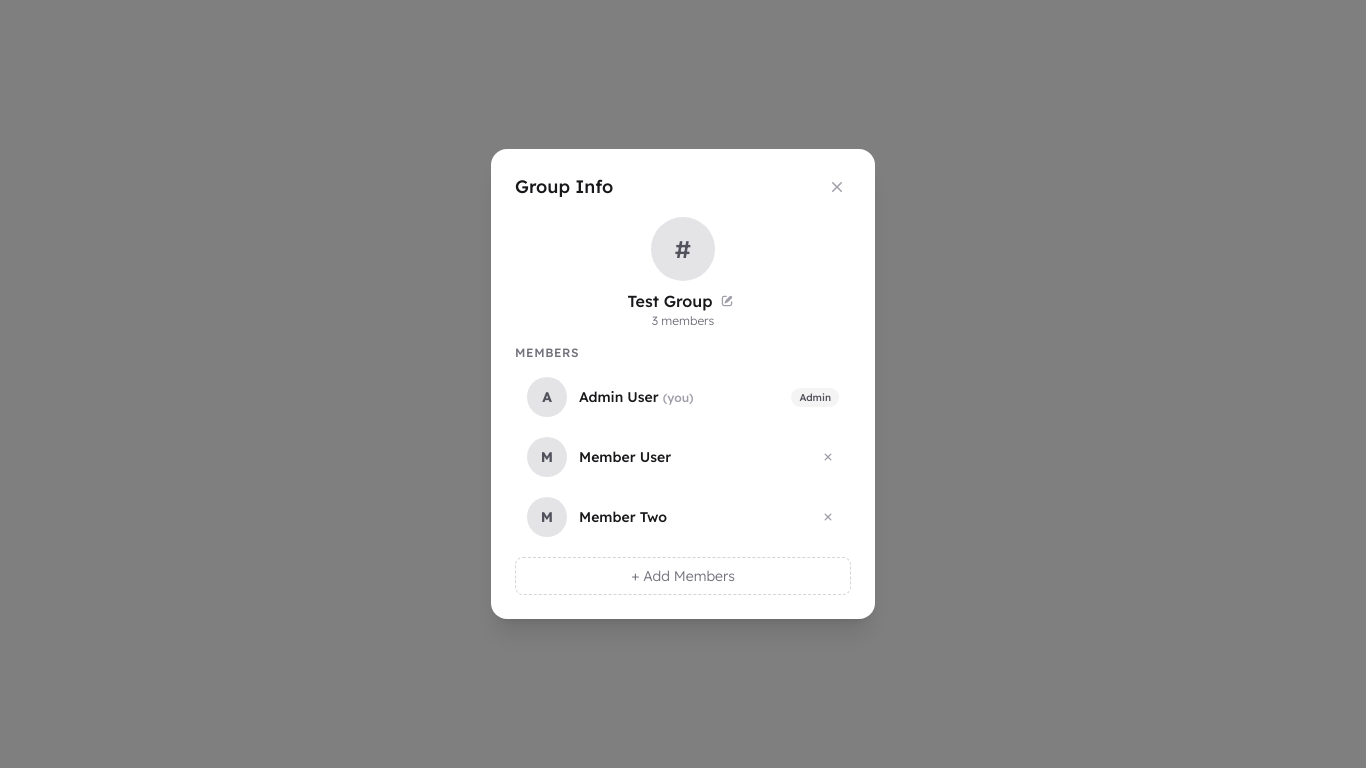
Test case: GroupChatSettings › shows error when save name fails
Click the button named "Edit group name". click: (728, 301)
box: [716,290,738,312]
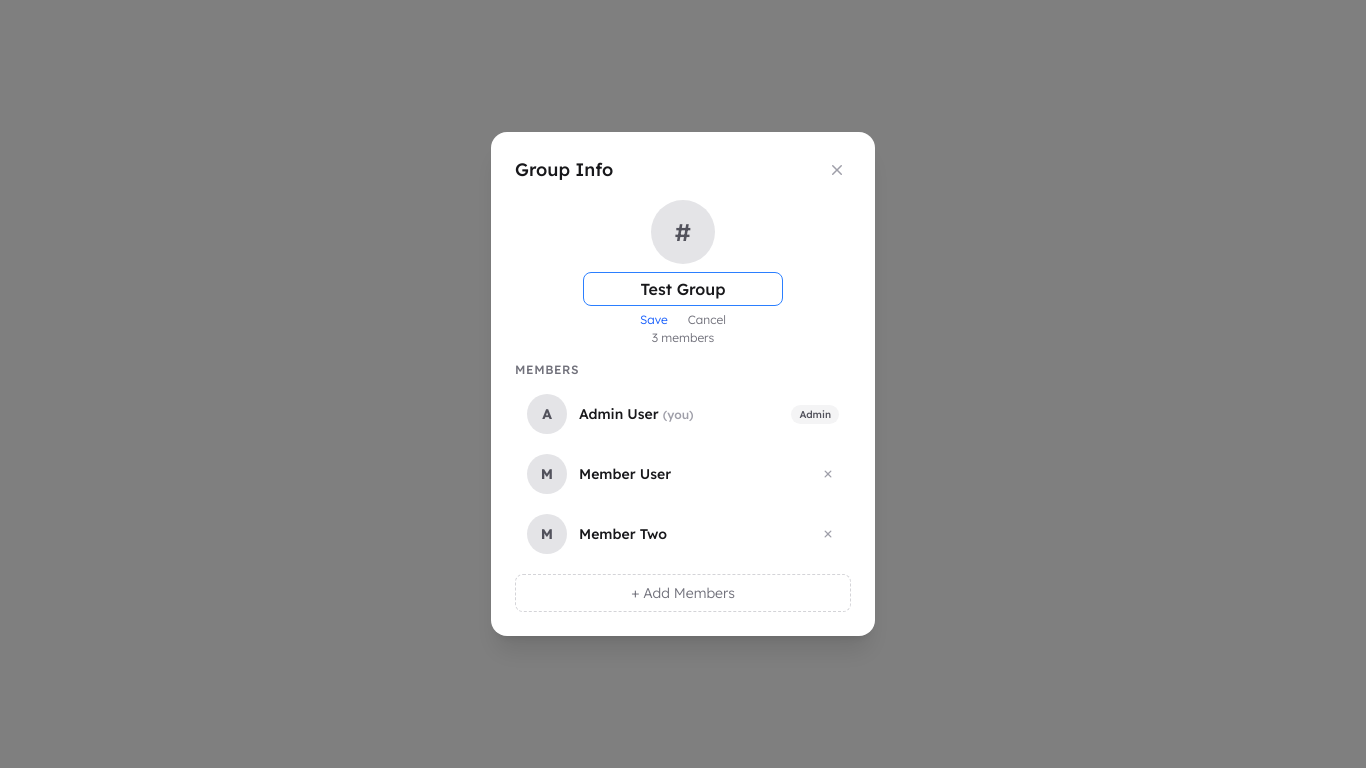
Replace the text in the field showing "Test Group" with "New Name". click: (683, 289)
box: [583,272,783,306]
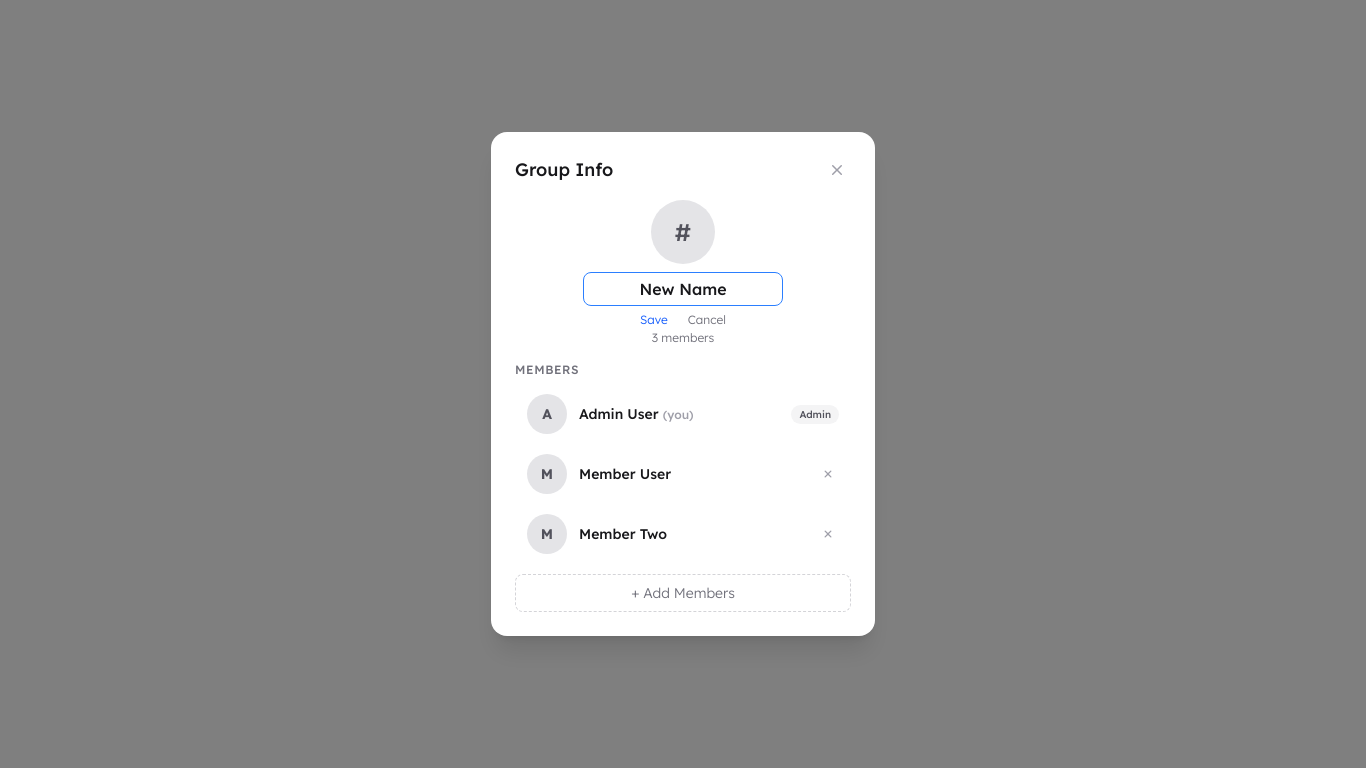
Click the button "Save". click: (654, 320)
box: [632,310,676,330]
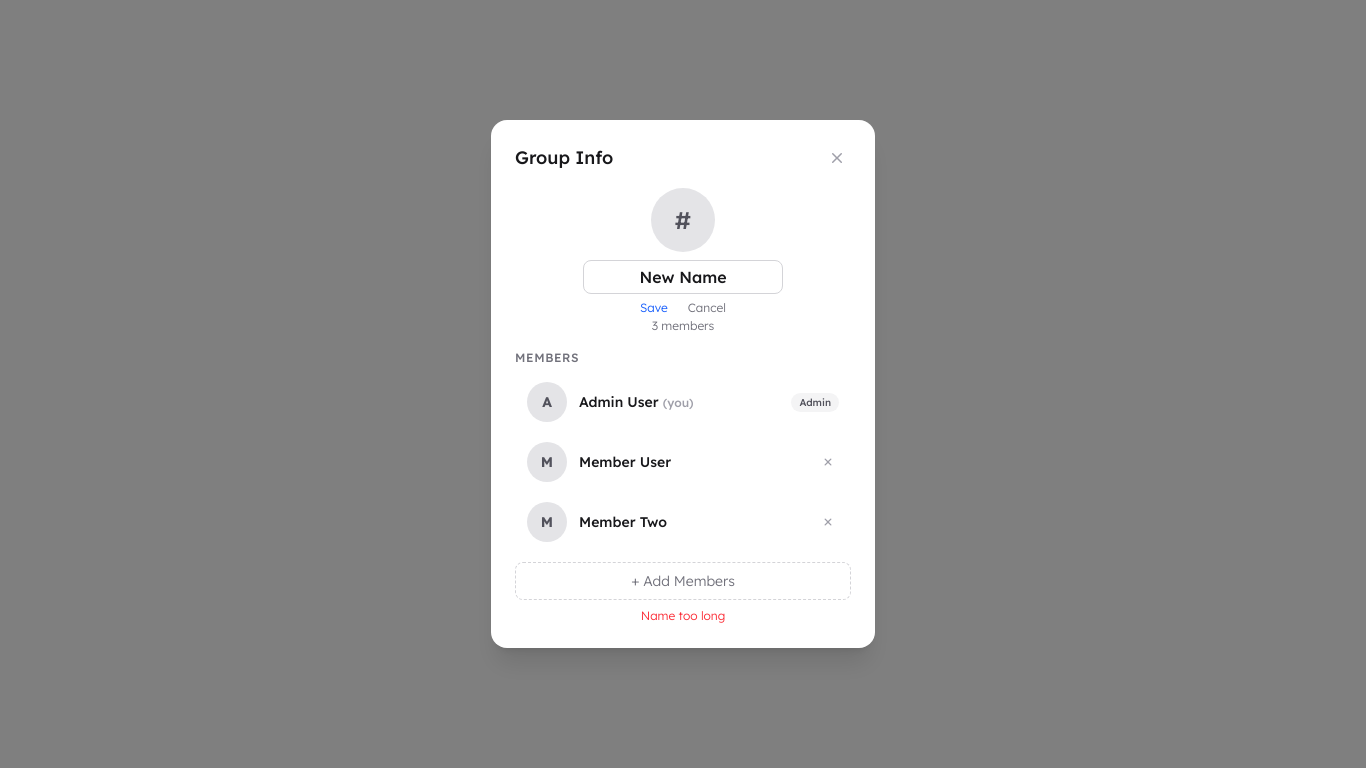
Now the text "Name too long" is shown, box [641,608,725,623]
